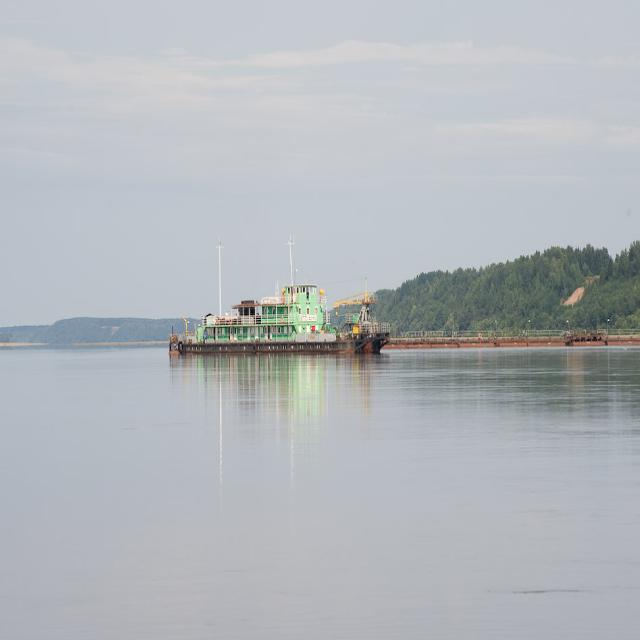fishing boat: (165, 272, 387, 360)
